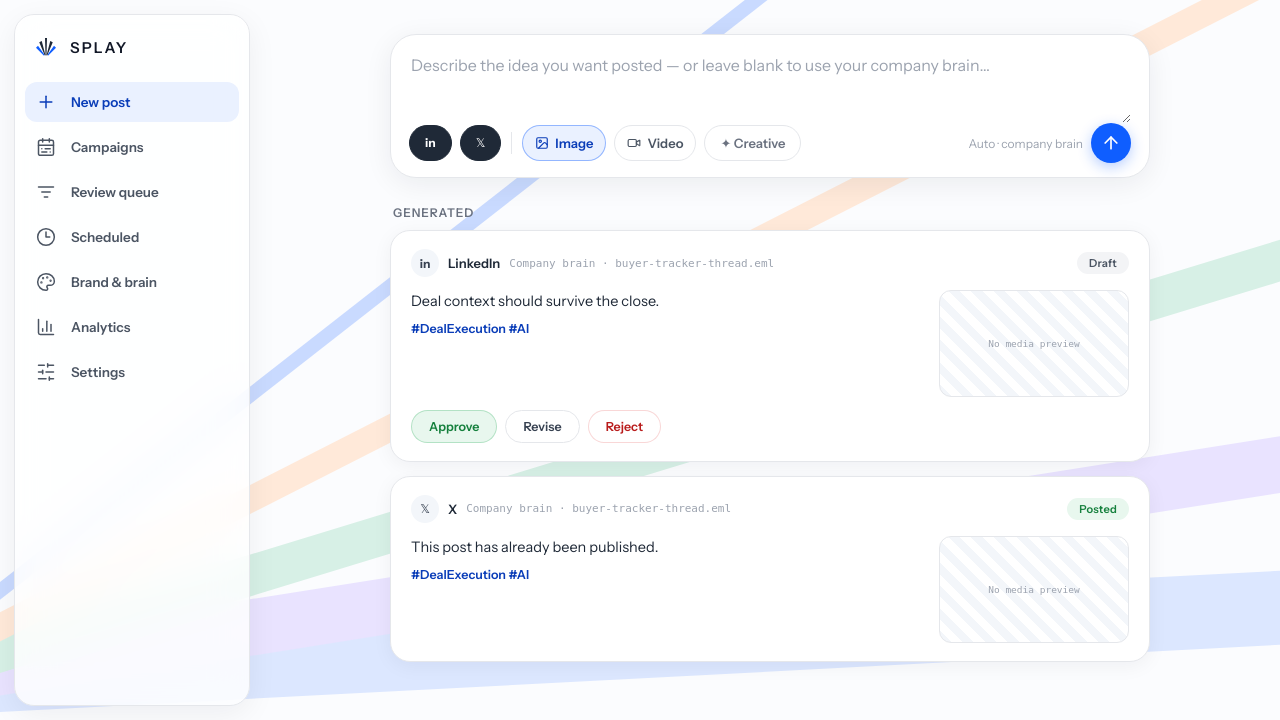
it: Splay frontend › loads real API-shaped posts and approves a draft
The image size is (1280, 720).
Click the button "Review queue" at x=132, y=192, box [25,172,239,212]
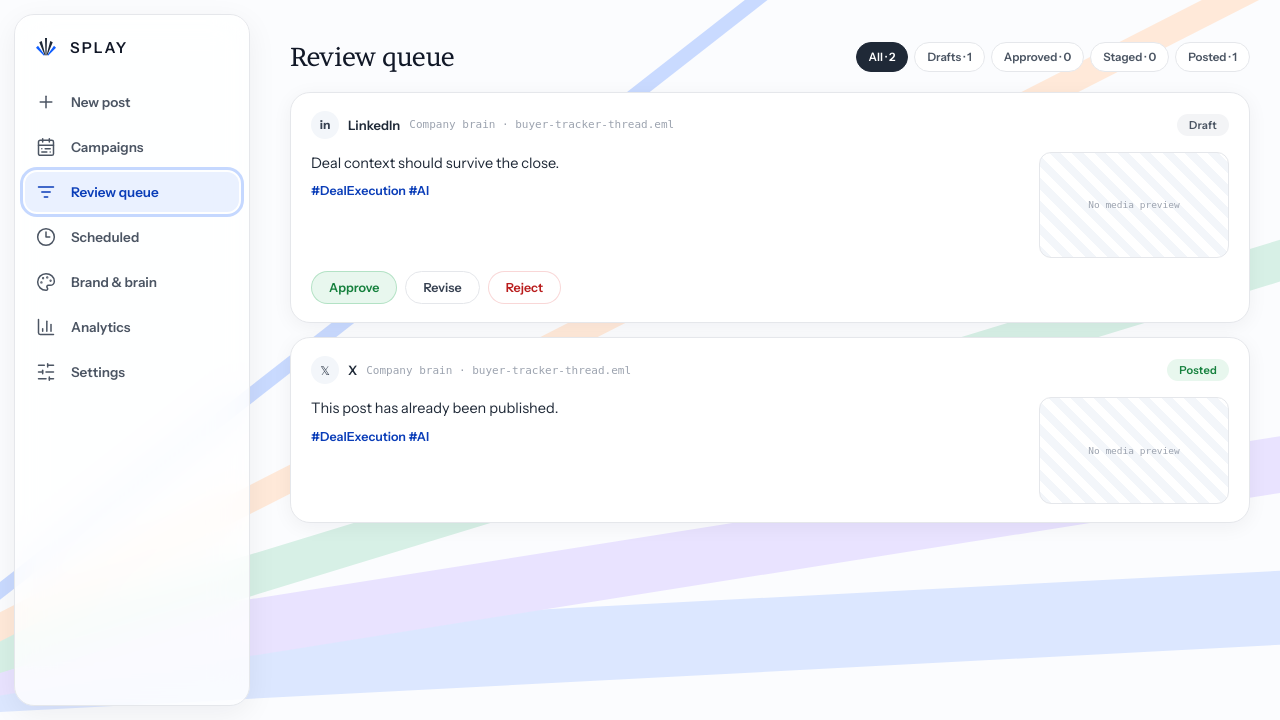
Expected: the text "Deal context should survive the close." is shown, [311,154,559,172]
Expected: the button "All · 2" is shown, [856,42,908,72]
Expected: the button "Posted · 1" is shown
Click the button "Posted · 1" at x=1213, y=57, box [1175,42,1250,72]
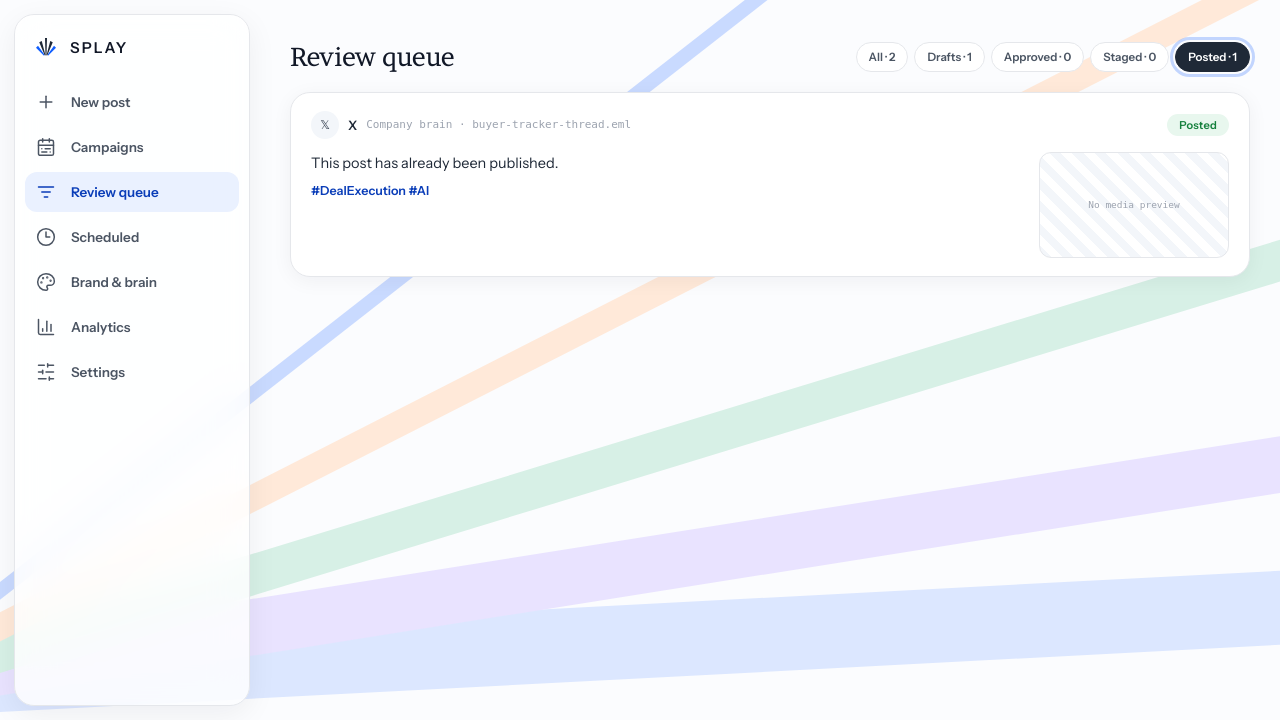
Expected: the text "This post has already been published." is shown, [311,154,558,172]
Expected: the text "Deal context should survive the close." is gone
Click the button "All · 2" at x=882, y=57, box [856,42,908,72]
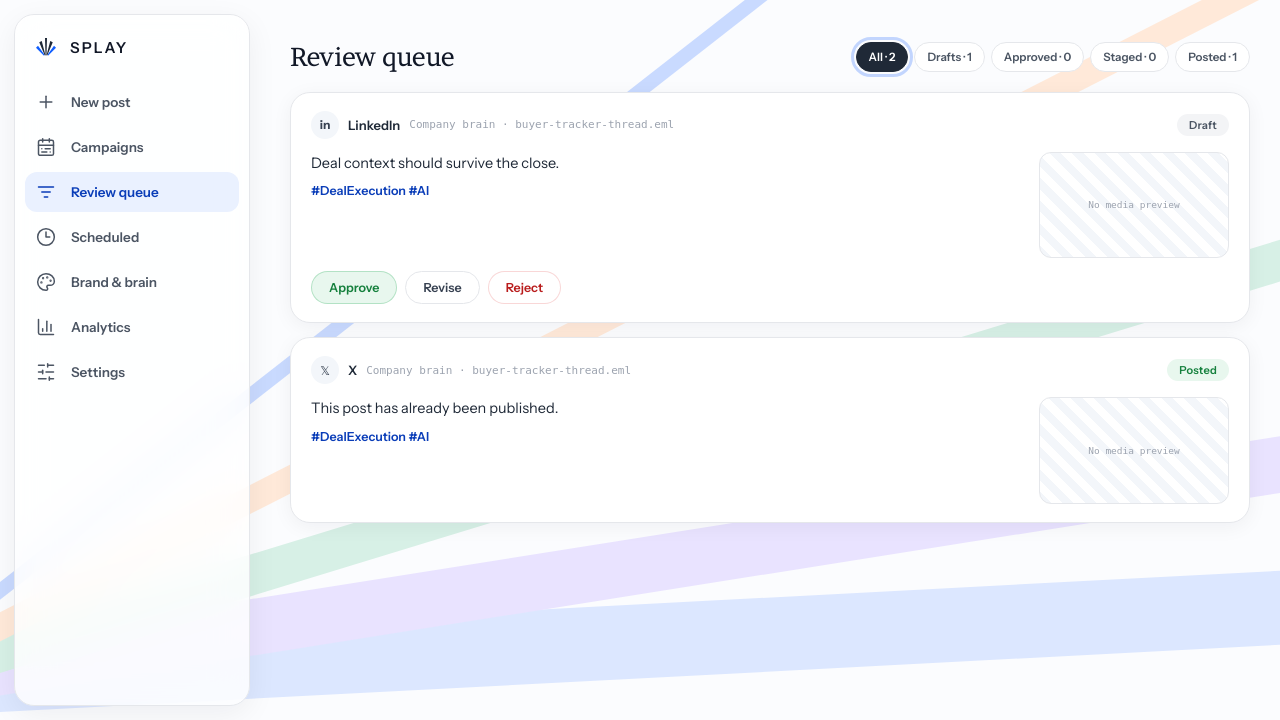
Click the button "Approve" at x=354, y=288, box [311,271,397,304]
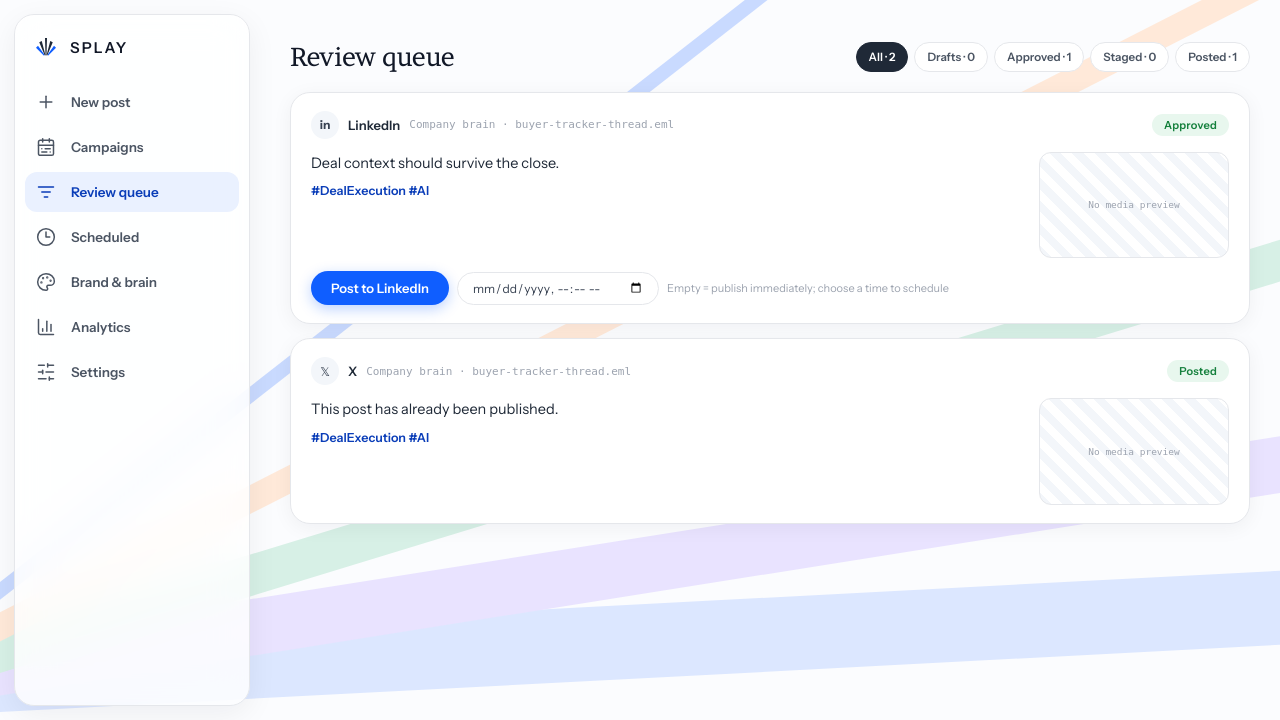
Expected: the text "Approved" is shown, [1152,114,1229,136]
Click the button "Settings" at x=132, y=372, box [25,352,239,392]
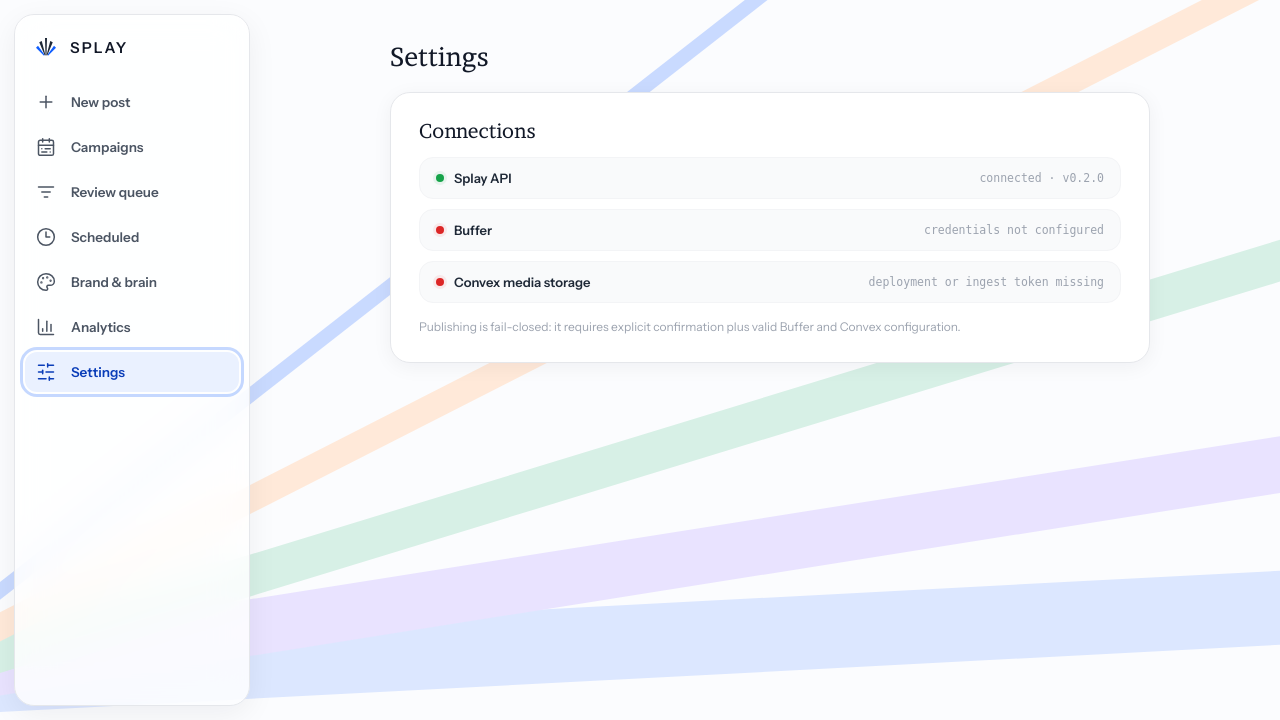
Expected: the text "connected · v0.2.0" is shown, [979,170,1104,184]
